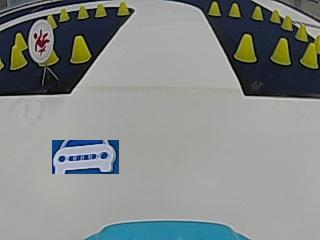cone: (234, 33, 257, 64), (70, 34, 91, 64), (270, 37, 291, 66), (300, 43, 317, 69), (10, 46, 25, 70), (295, 22, 307, 41), (228, 2, 241, 18), (280, 14, 292, 31), (208, 1, 221, 16), (251, 5, 263, 21), (95, 3, 107, 18), (116, 1, 128, 16), (58, 7, 70, 22), (46, 15, 58, 29), (77, 5, 88, 19), (270, 8, 280, 23)
tumble: (30, 22, 52, 58)
